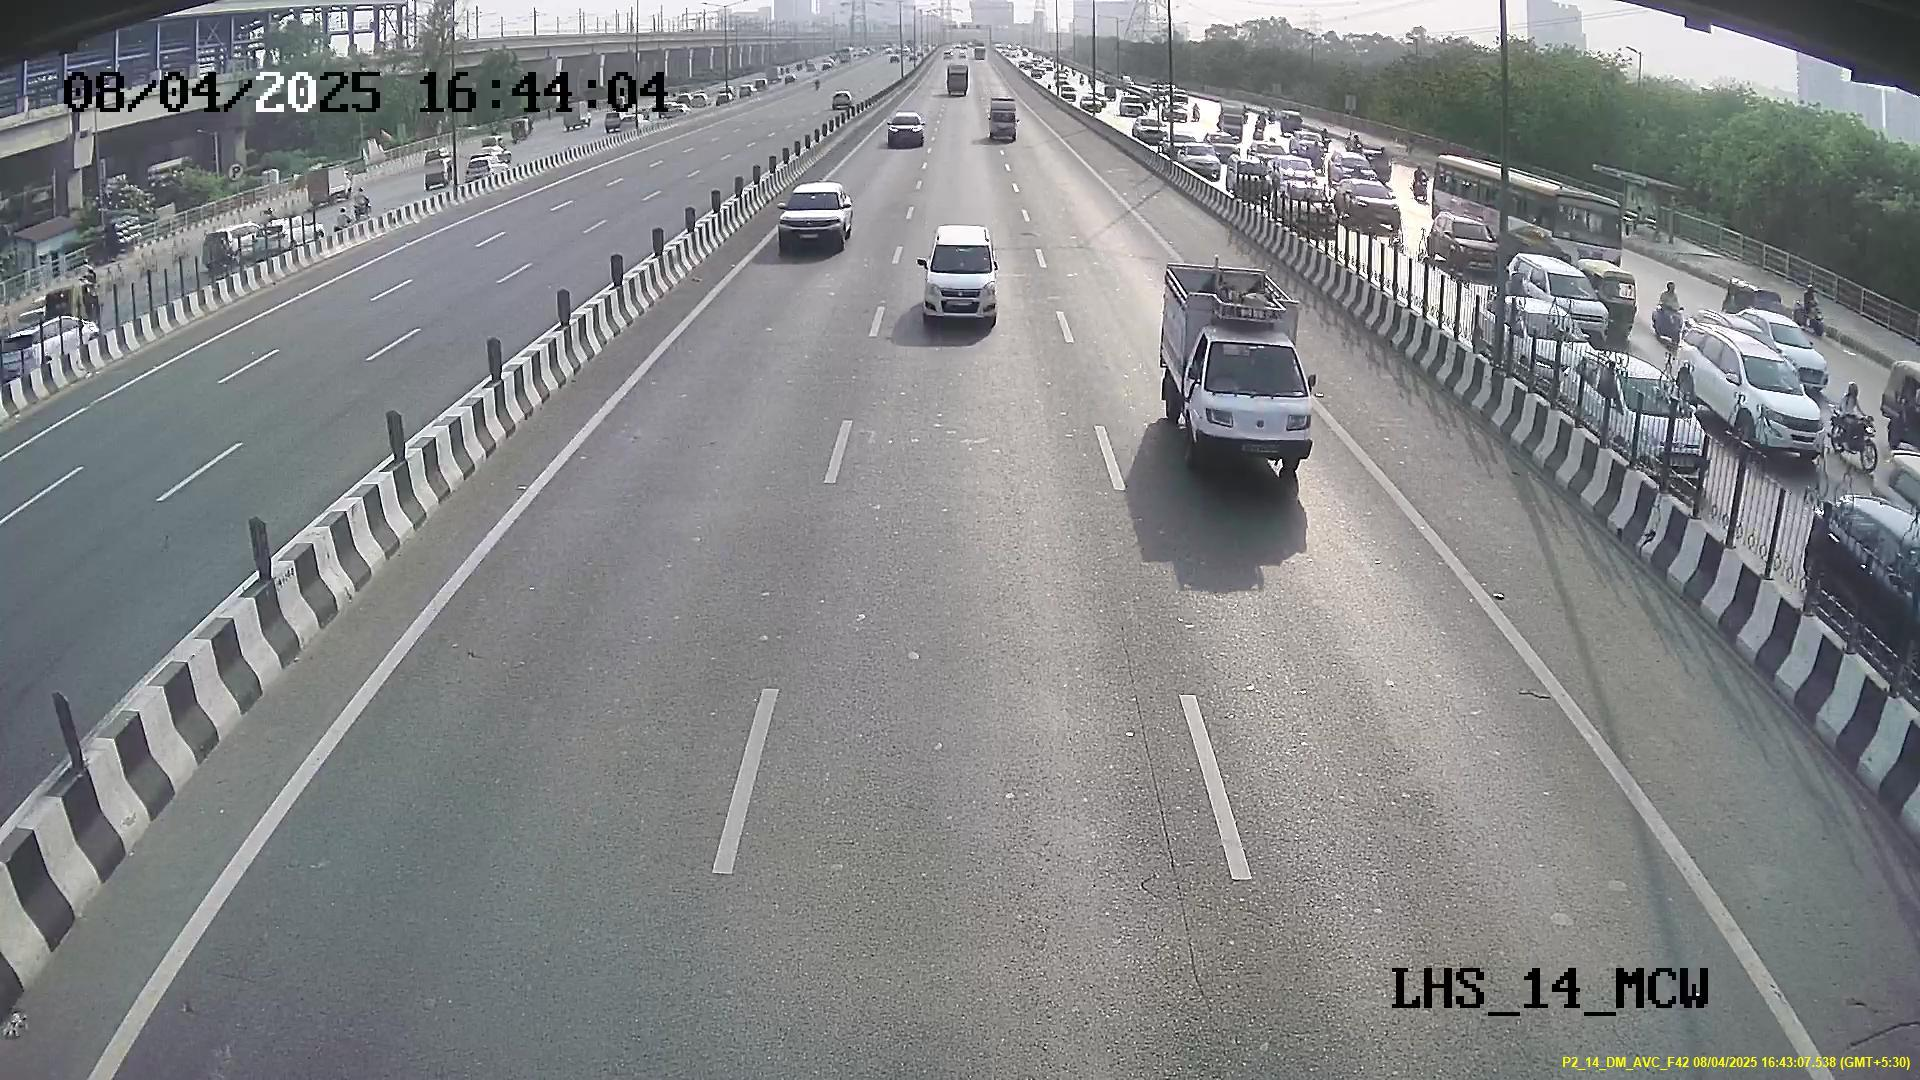car: (1179, 324, 1319, 467), (918, 235, 1002, 327), (773, 183, 855, 253)
